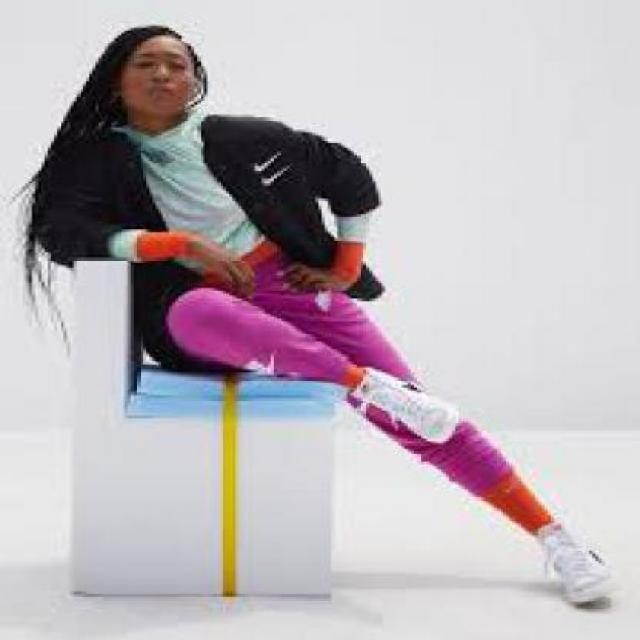Nike: (255, 159, 291, 187), (245, 146, 281, 172)
